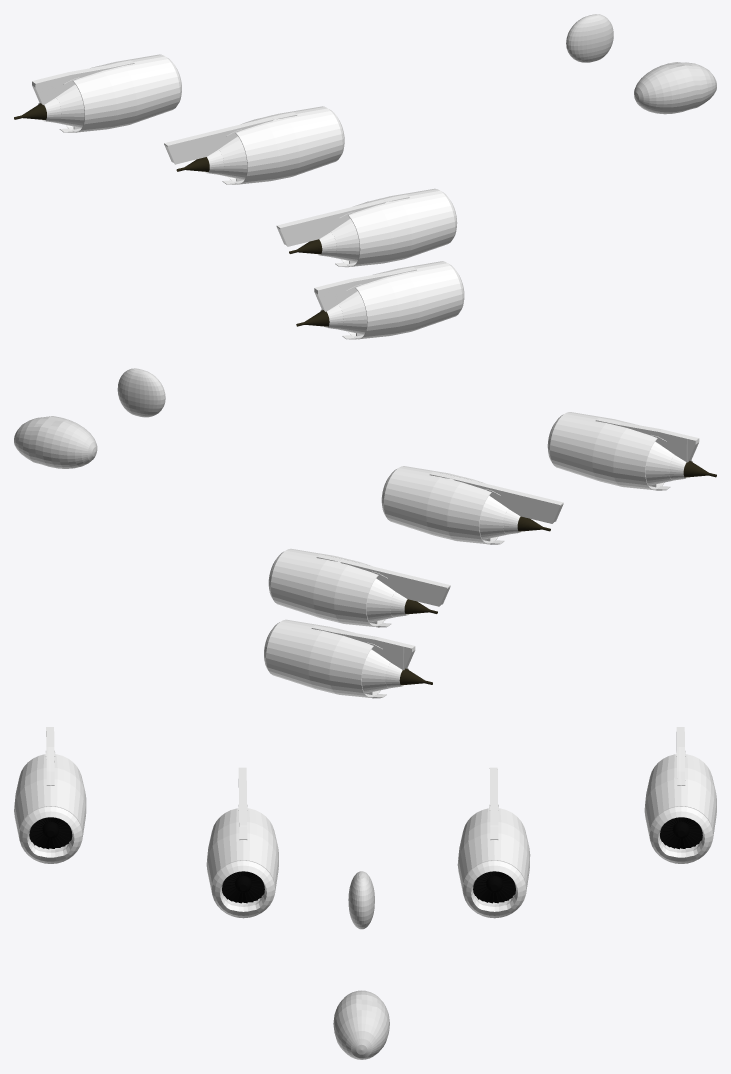
The picture shows the model from 3 angles, top to bottom: view 1: azimuth 30°, elevation 25°; view 2: azimuth 150°, elevation 25°; view 3: azimuth 270°, elevation 25°; orthographic projection. The views are drawn at different scales.
Parts seen in each view (by area): view 1: 立方体.001, 立方体, 立方体.002, 立方体.003, 球, 球.001, 円柱.008, 円柱.011, 円柱.004, 円柱.002; view 2: 立方体.001, 立方体, 立方体.002, 立方体.003, 球, 球.001, 円柱.008, 円柱.011, 円柱.002, 円柱.004; view 3: 立方体.001, 立方体, 立方体.003, 立方体.002, 球, 円柱.010, 円柱.003, 円柱.001, 円柱.006, 球.001, 円柱.005, 円柱.009 (+2 smaller).
Part boxes in pixels (box(x1,y1,x2,y2)): 立方体.001: box(276, 188, 454, 267); 立方体: box(164, 106, 341, 184); 立方体.002: box(32, 54, 179, 132); 立方体.003: box(314, 261, 461, 339); 球: box(634, 62, 716, 114); 球.001: box(566, 14, 613, 62); 円柱.008: box(14, 84, 84, 127); 円柱.011: box(296, 291, 366, 334); 円柱.004: box(176, 136, 247, 179); 円柱.002: box(289, 218, 359, 262); 立方体.001: box(384, 466, 563, 544); 立方体: box(271, 548, 450, 627); 立方体.002: box(266, 619, 415, 698); 立方体.003: box(550, 412, 699, 490); 球: box(14, 416, 97, 468); 球.001: box(117, 368, 165, 417); 円柱.008: box(362, 649, 432, 693); 円柱.011: box(645, 441, 716, 485); 円柱.002: box(479, 495, 550, 539); 円柱.004: box(366, 578, 437, 622); 立方体.001: box(206, 767, 278, 909); 立方体: box(457, 767, 530, 908); 立方体.003: box(14, 727, 86, 855); 立方体.002: box(644, 727, 716, 853); 球: box(333, 990, 389, 1059); 円柱.010: box(19, 806, 82, 863); 円柱.003: box(463, 860, 526, 918); 円柱.001: box(211, 860, 274, 918); 円柱.006: box(649, 806, 712, 863); 球.001: box(348, 871, 374, 929); 円柱.005: box(222, 871, 264, 903); 円柱.009: box(660, 817, 702, 849).
Bounding box in the file's own units: 25.39 × 6.17 × 24.84.
